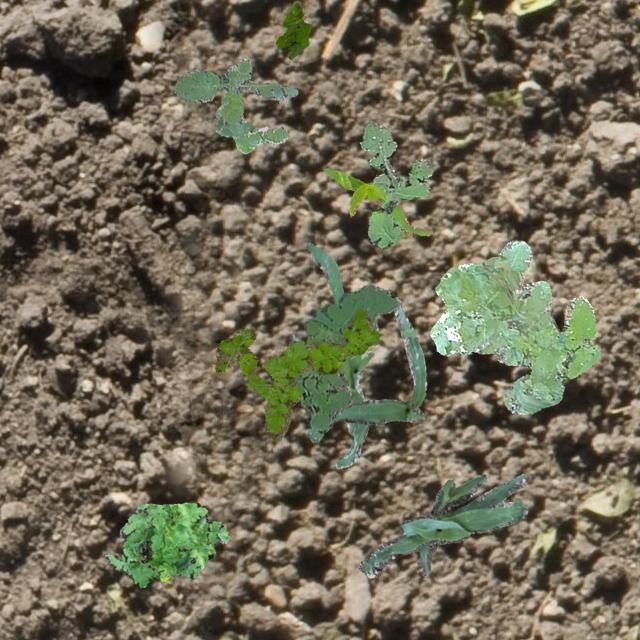crop: (290, 242, 372, 468), (358, 472, 528, 578), (332, 296, 426, 424), (324, 167, 429, 236)
weed: (428, 238, 600, 414), (212, 308, 380, 439), (294, 284, 398, 442), (172, 58, 296, 152), (104, 502, 228, 586), (358, 120, 432, 248), (274, 1, 310, 58)
